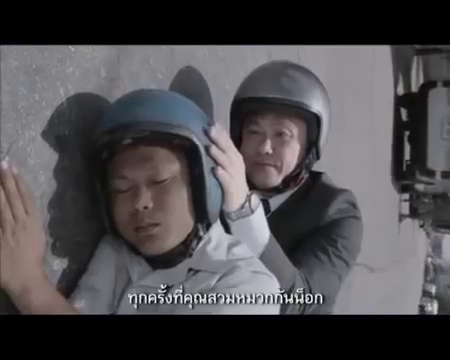helmet: (92, 84, 224, 238), (227, 56, 335, 166)
